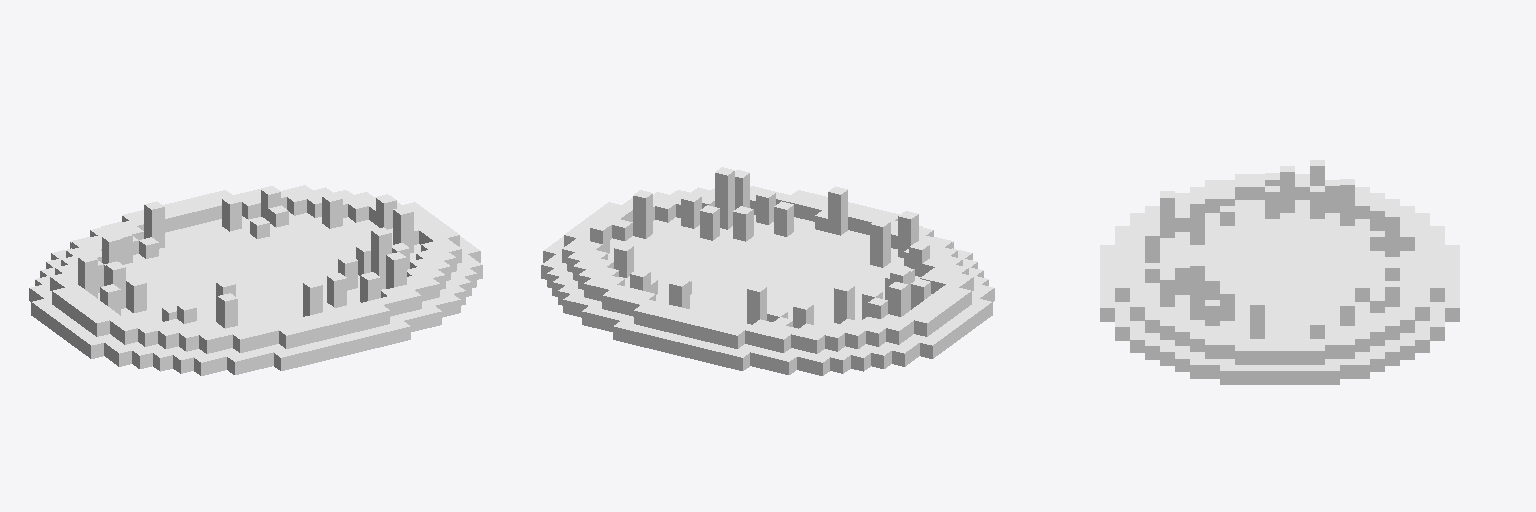
Rendered from Lake.obj.
3 renders of one model, left to right at view 1: azimuth 30°, elevation 25°; view 2: azimuth 150°, elevation 25°; view 3: azimuth 270°, elevation 25°, orthographic.
Parts seen in each view (by area): view 1: object 1; view 2: object 1; view 3: object 1.
Boxes of the visible parts, box(x1,y1,x2,y2) form: object 1: box(29, 185, 482, 375); object 1: box(541, 167, 994, 375); object 1: box(1100, 160, 1459, 384).
Bounding box in the file's own units: 3 × 0.5 × 2.4.